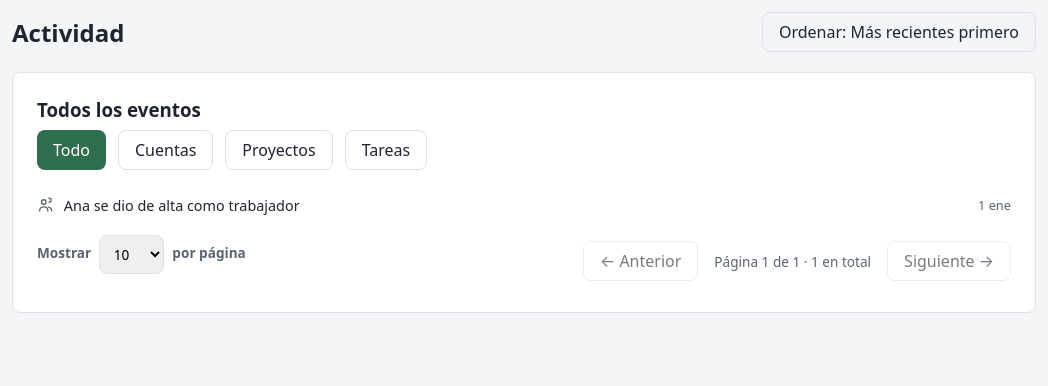
Test: AdminActivity › volver a 'Todo' quita el filtro de tipo
Expected: the button "Todo" is shown, [37,130,106,170]
Click the button "Cuentas" at (166, 150), box [118,130,213,170]
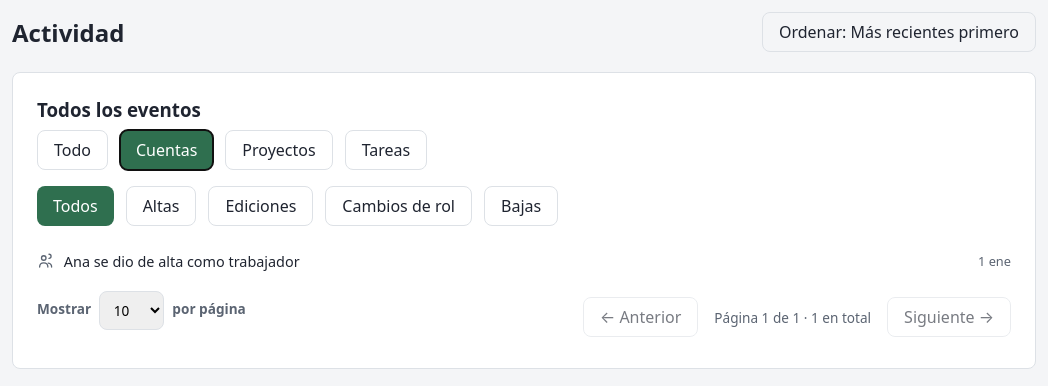
Click the button "Todo" at (72, 150), box [37,130,108,170]
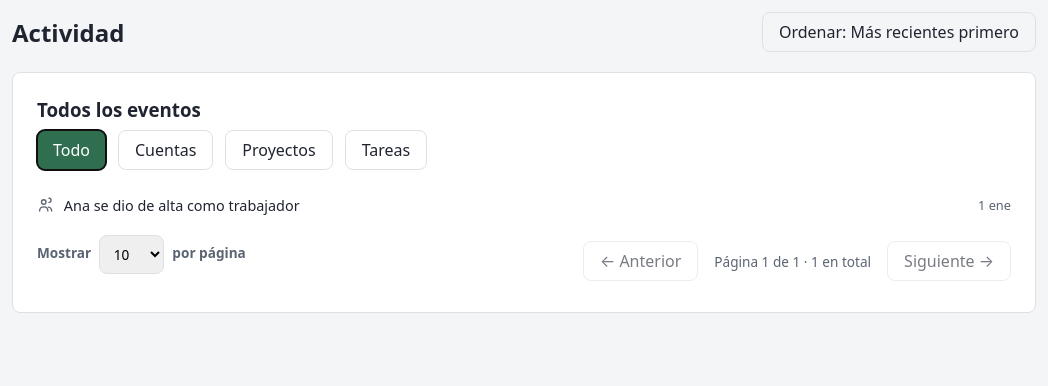
Now the button "Bajas" is gone
